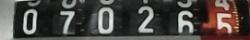digits: (58, 0, 78, 34), (96, 0, 116, 34), (176, 0, 195, 35), (214, 0, 232, 36), (137, 6, 154, 34), (22, 8, 38, 34)
